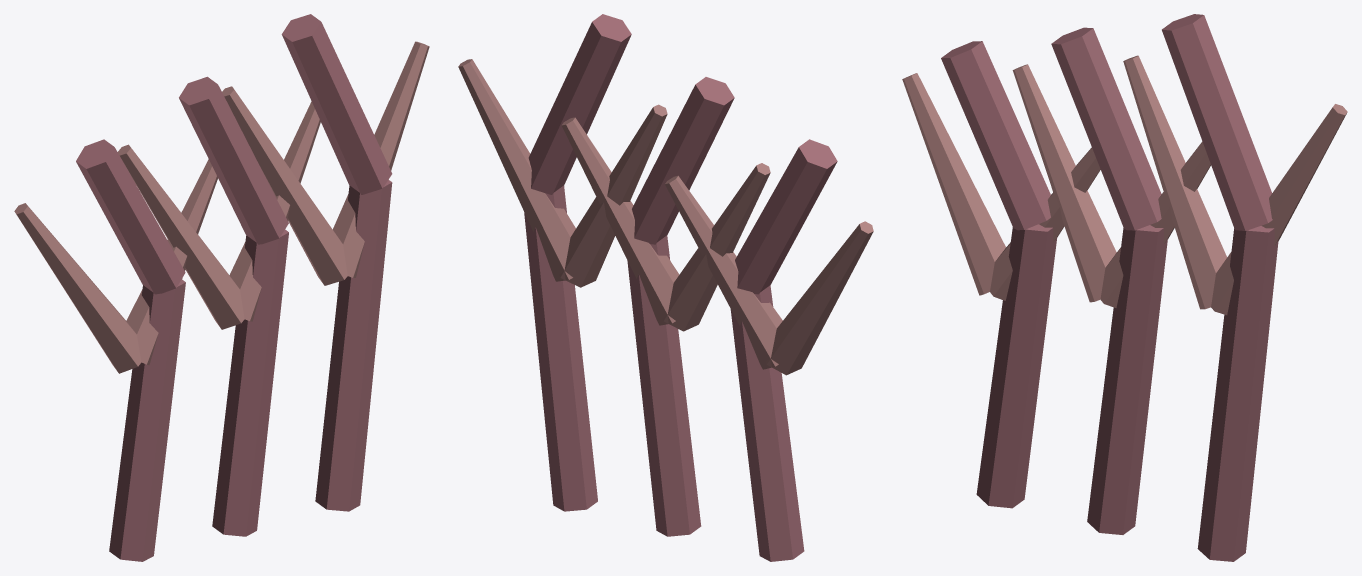
The model's file is map-boundaries-v5__tide_05.glb.
3 renders of one model, left to right at view 1: azimuth 30°, elevation 25°; view 2: azimuth 150°, elevation 25°; view 3: azimuth 330°, elevation 25°, orthographic. The views are drawn at different scales.
Parts seen in each view (by area): view 1: tide_05; view 2: tide_05; view 3: tide_05.
Part boxes in pixels (x1=…): tide_05: x1=14, y1=14, x2=429, y2=561; tide_05: x1=458, y1=14, x2=873, y2=561; tide_05: x1=902, y1=14, x2=1347, y2=561.
Size of the model in its own units: 1.48 by 1.69 by 0.1744.
